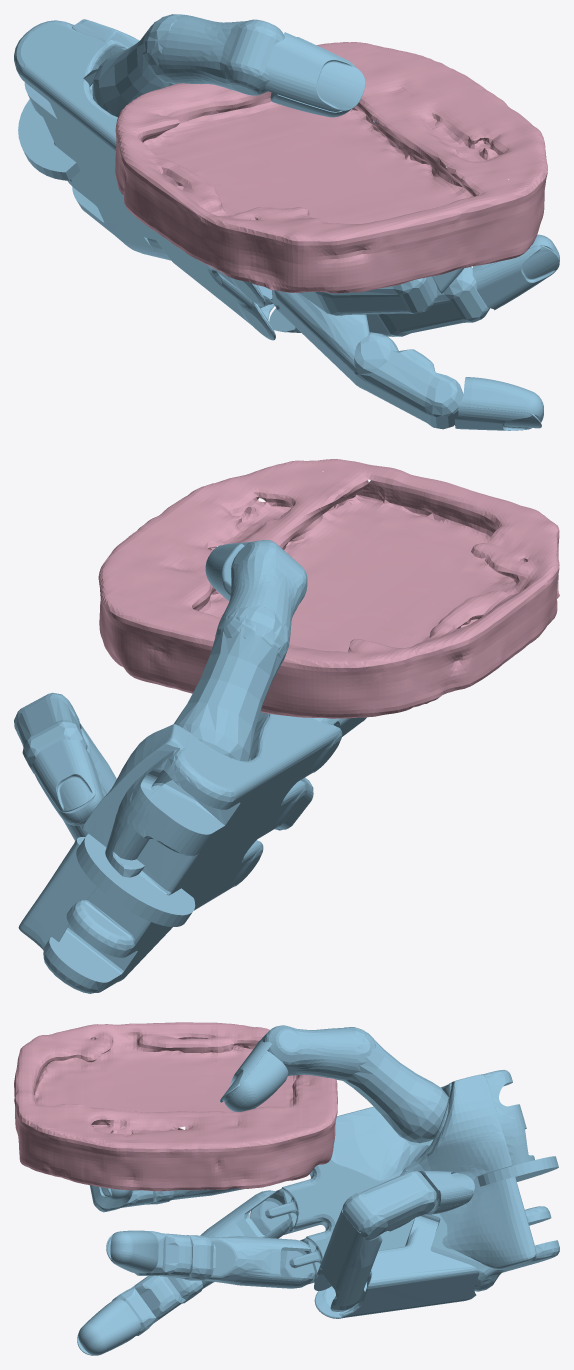
The picture shows the model from 3 angles, top to bottom: view 1: azimuth 30°, elevation 25°; view 2: azimuth 150°, elevation 25°; view 3: azimuth 270°, elevation 25°; orthographic projection. The views are drawn at different scales.
Parts seen in each view (by area): view 1: world, hand; view 2: world, hand; view 3: hand, world.
Part boxes in pixels (x1,y1,x2,y2): world: (115, 42, 547, 293); hand: (14, 14, 559, 430); world: (98, 459, 559, 718); hand: (14, 540, 366, 993); hand: (77, 1025, 559, 1355); world: (14, 1022, 337, 1191).
Size of the model in its own units: 0.1307 by 0.1224 by 0.2216.
